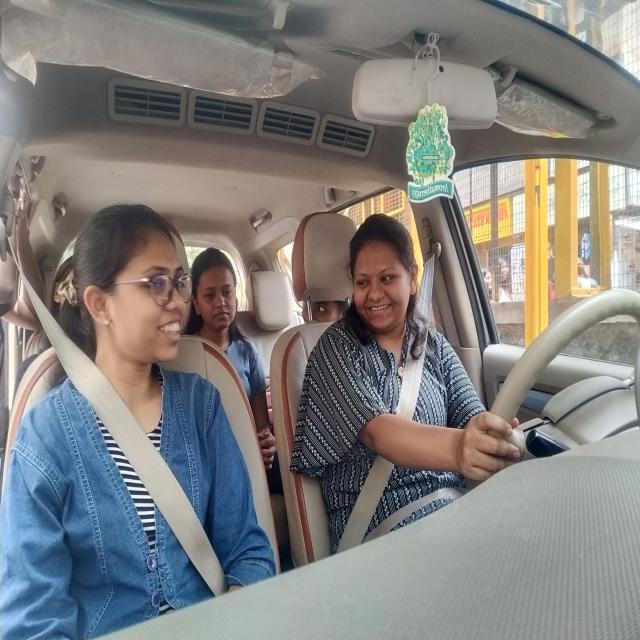LeftRight: (346, 212, 431, 338)
person: (82, 198, 196, 373), (188, 246, 248, 336)
talking: (155, 318, 187, 346), (359, 296, 398, 318)
